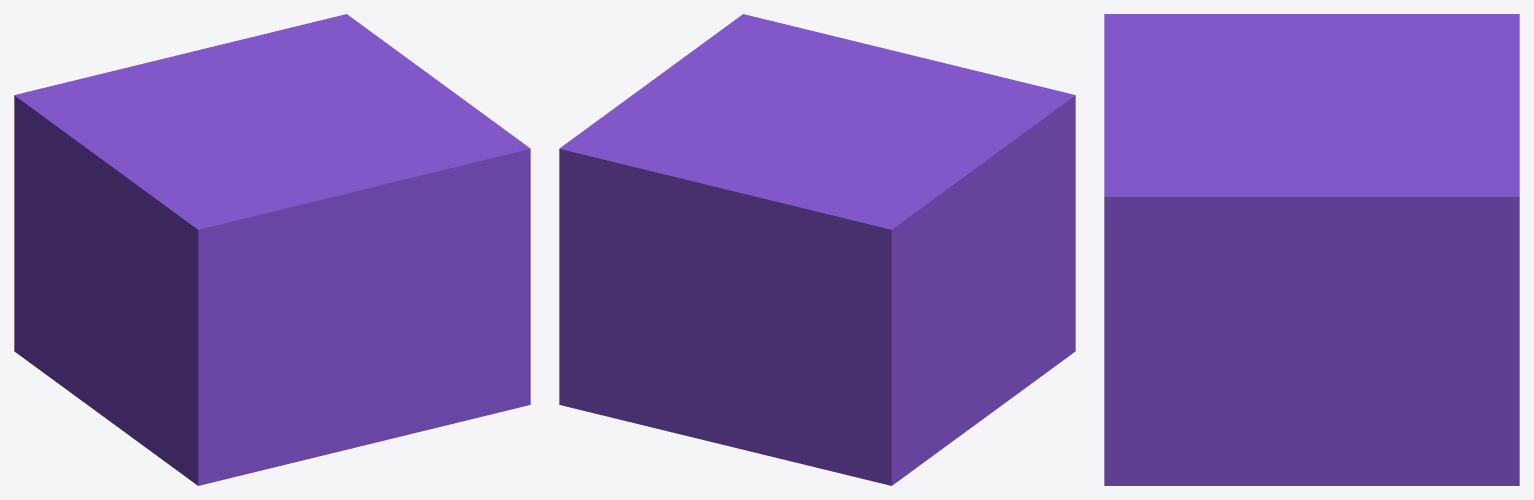
Rendered from shrine_stage_unbk.DAE.
3 views of the same model, side by side, from view 1: azimuth 30°, elevation 25°; view 2: azimuth 150°, elevation 25°; view 3: azimuth 270°, elevation 25° (orthographic). The views are drawn at different scales.
Parts seen in each view (by area): view 1: bounds; view 2: bounds; view 3: bounds.
Boxes of the visible parts, <box> form: bounds: <box>14,14,530,485</box>; bounds: <box>559,14,1075,485</box>; bounds: <box>1104,14,1519,485</box>.
Bounding box in the file's own units: 24.74 × 23.71 × 18.21.
